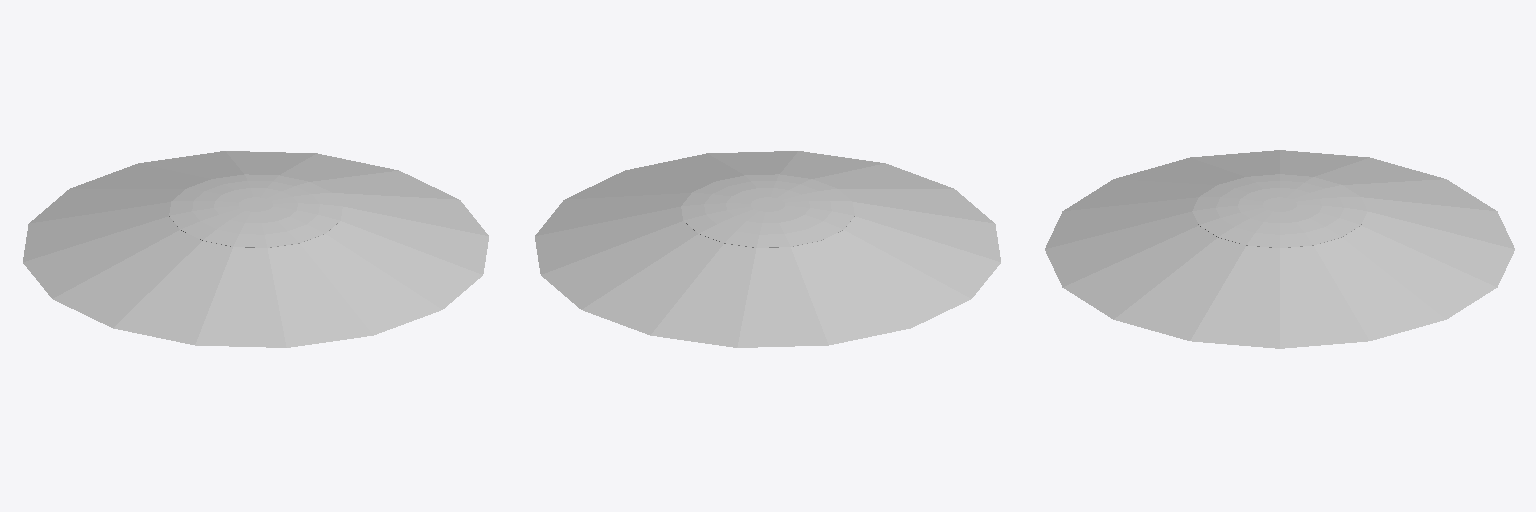
Rendered from eco_vent_switched_off.obj.
3 views of the same model, side by side, from view 1: azimuth 30°, elevation 25°; view 2: azimuth 150°, elevation 25°; view 3: azimuth 270°, elevation 25° (orthographic).
Visible parts, largest first — view 1: Cylinder.001; view 2: Cylinder.001; view 3: Cylinder.001.
Part boxes in pixels (x1,y1,x2,y2): Cylinder.001: (23,151,488,347); Cylinder.001: (535,151,1000,347); Cylinder.001: (1045,150,1514,348).
Size of the model in its own units: 6.57 by 1.58 by 6.57.